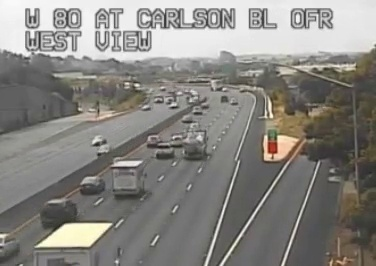car: (41, 199, 77, 226), (80, 176, 104, 193), (169, 133, 185, 148), (155, 143, 172, 157), (146, 135, 160, 147)
small-truck: (34, 221, 118, 266), (110, 160, 144, 197)
tank-truck: (183, 131, 207, 159)
